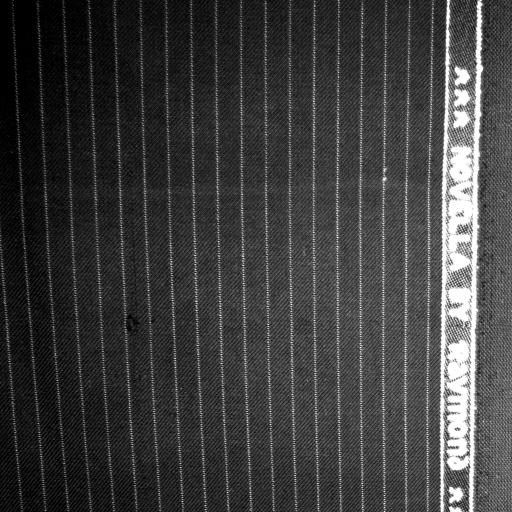fabric_hole: (123, 308, 145, 344)
